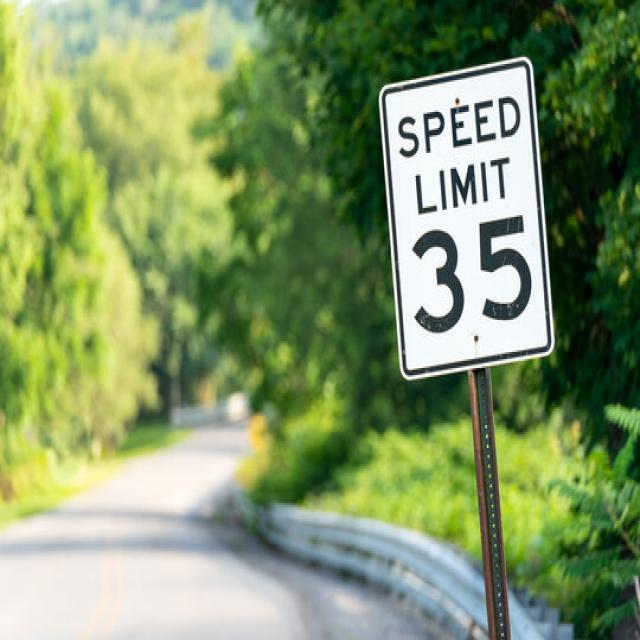Speed Limit Signs: (376, 52, 558, 384)
